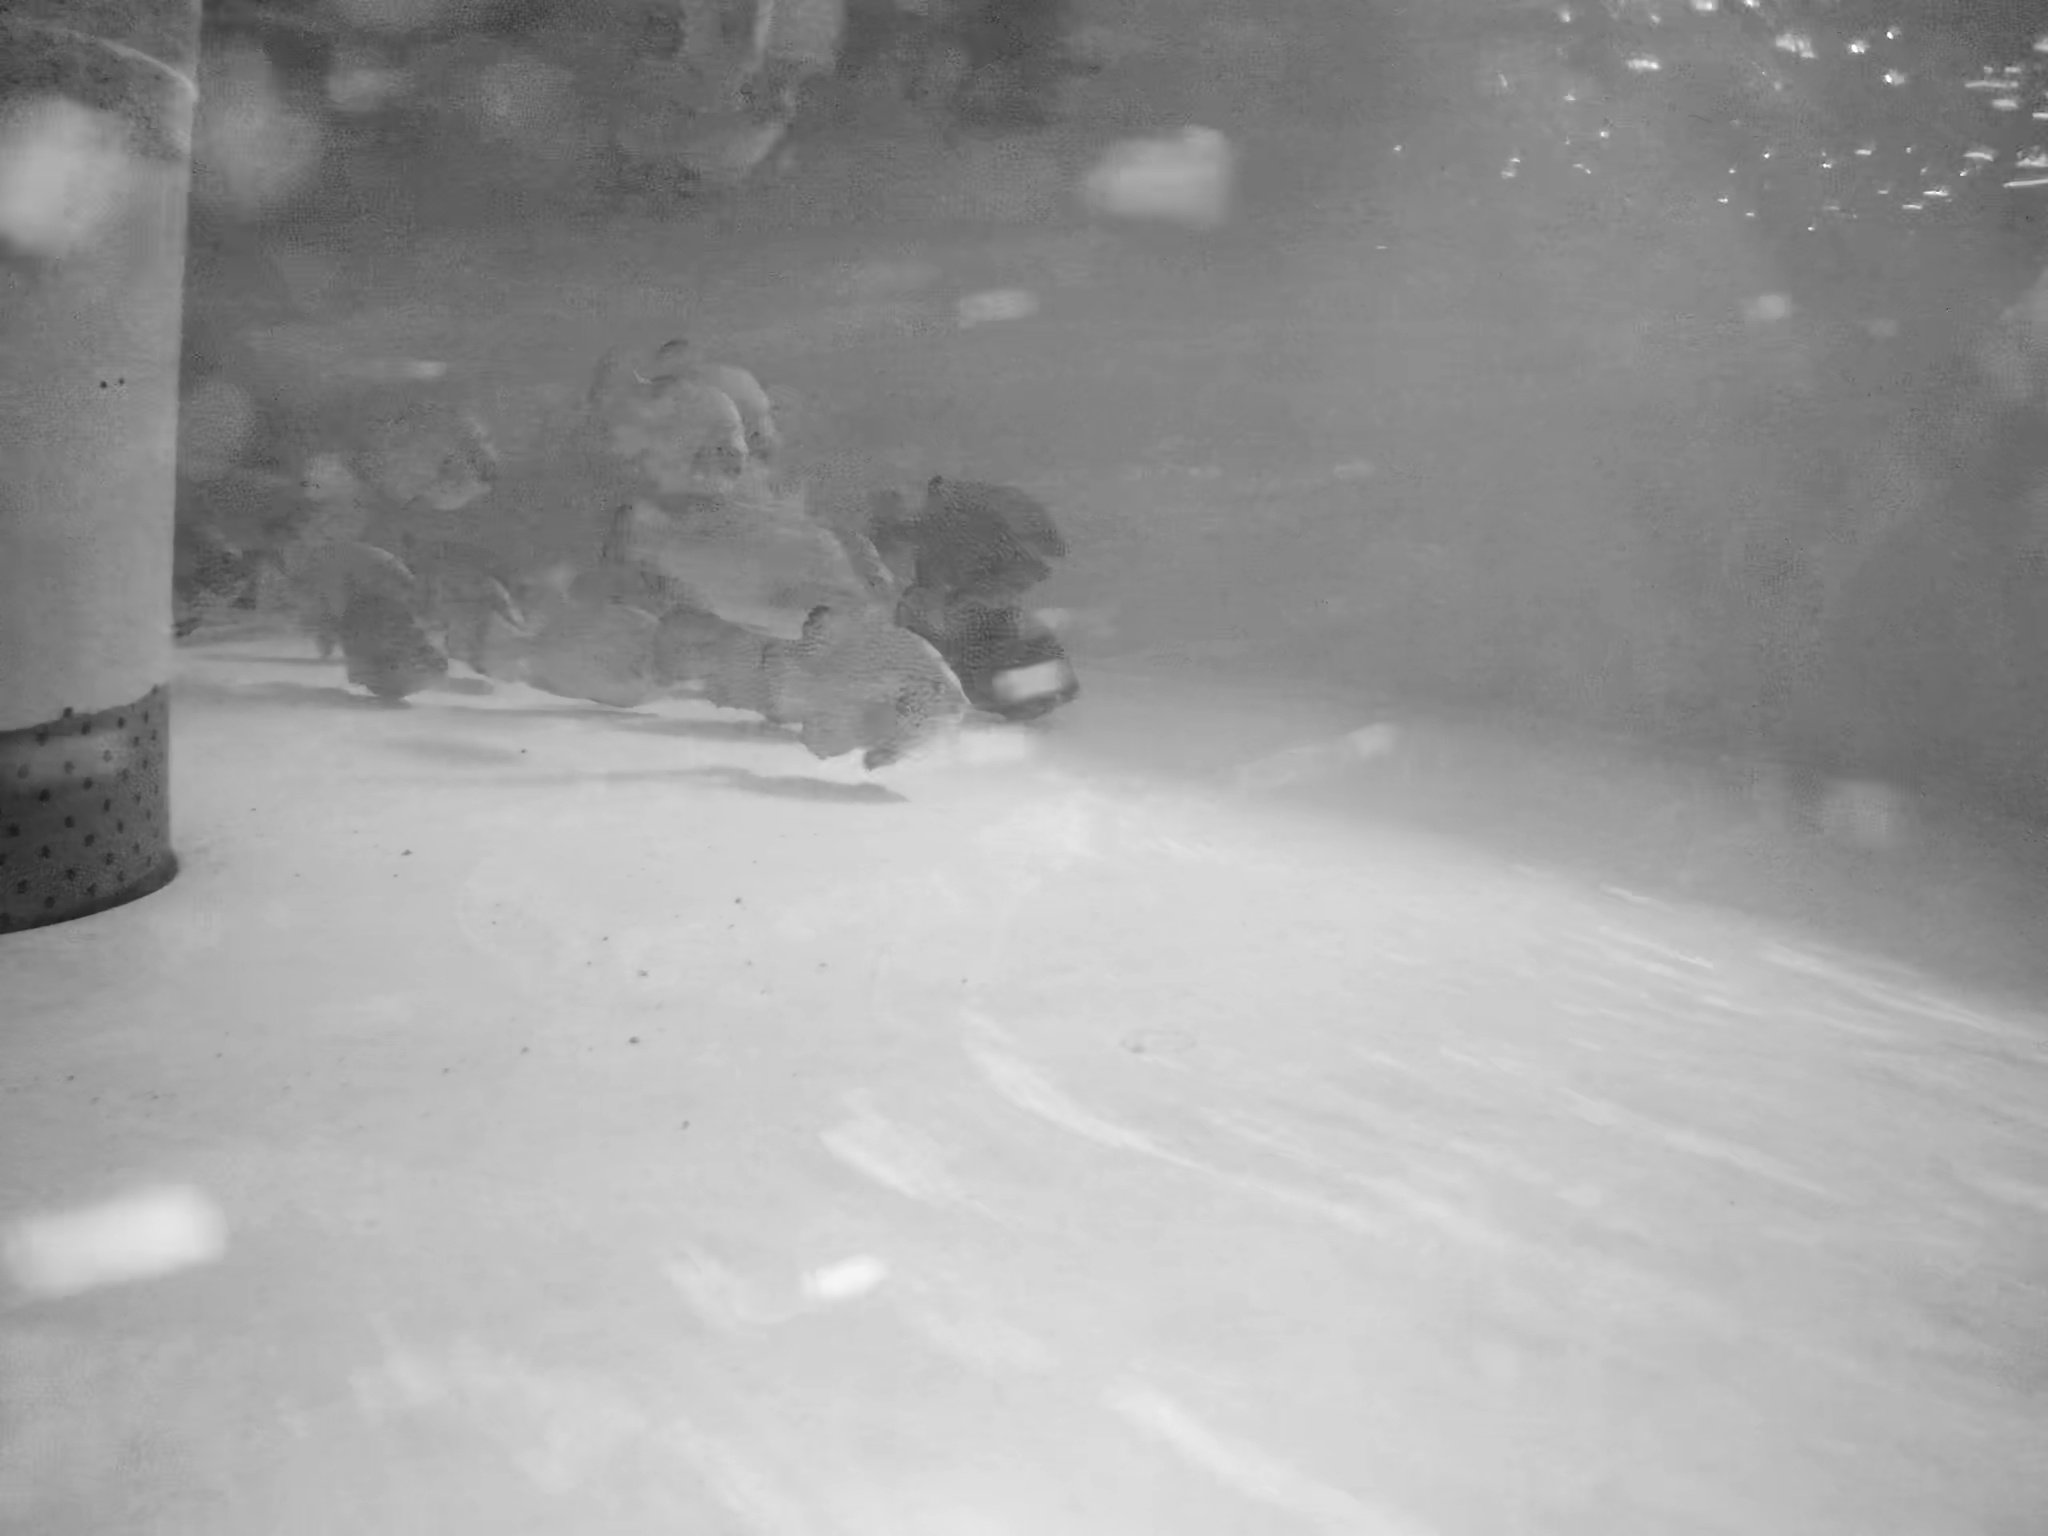fish: (614, 494, 872, 641), (766, 600, 963, 763), (290, 386, 513, 516), (614, 35, 808, 182), (892, 592, 1087, 724), (581, 357, 745, 494), (476, 582, 656, 703), (864, 499, 1063, 603), (908, 449, 1084, 566), (645, 336, 787, 481), (672, 607, 843, 721), (260, 544, 427, 642), (302, 592, 452, 700), (418, 573, 539, 687), (772, 515, 900, 610), (179, 508, 255, 636)
